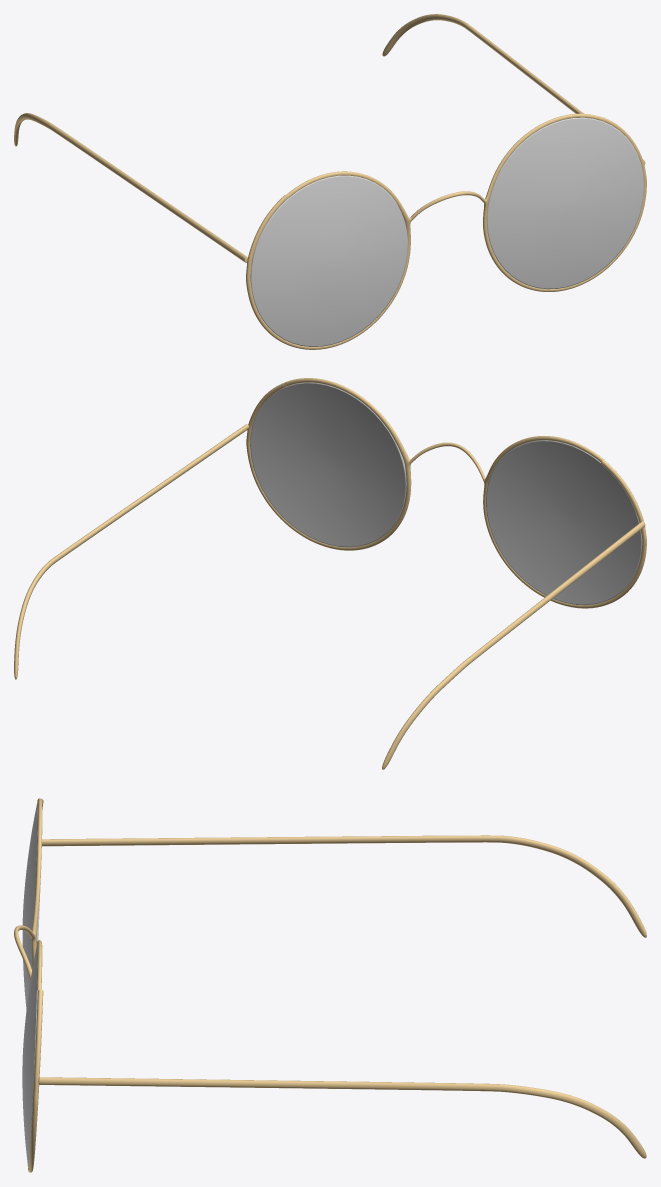
3 views of the same model, one above another, from view 1: azimuth 30°, elevation 25°; view 2: azimuth 150°, elevation 25°; view 3: azimuth 270°, elevation 25° (orthographic). The views are drawn at different scales.
Parts seen in each view (by area): view 1: glasses lenses, temples, glasses frame; view 2: glasses lenses, temples, glasses frame; view 3: temples, glasses lenses, glasses frame.
Part boxes in pixels (x1,y1,x2,y2): glasses lenses: (250,117,644,346); temples: (14,14,646,311); glasses frame: (248,113,646,349); glasses lenses: (250,382,642,605); temples: (14,382,646,769); glasses frame: (281,378,640,608); temples: (32,799,646,1168); glasses lenses: (22,803,40,1167); glasses frame: (14,798,42,1172).
Bounding box in the file's own units: 12.8 × 5 × 13.6.
